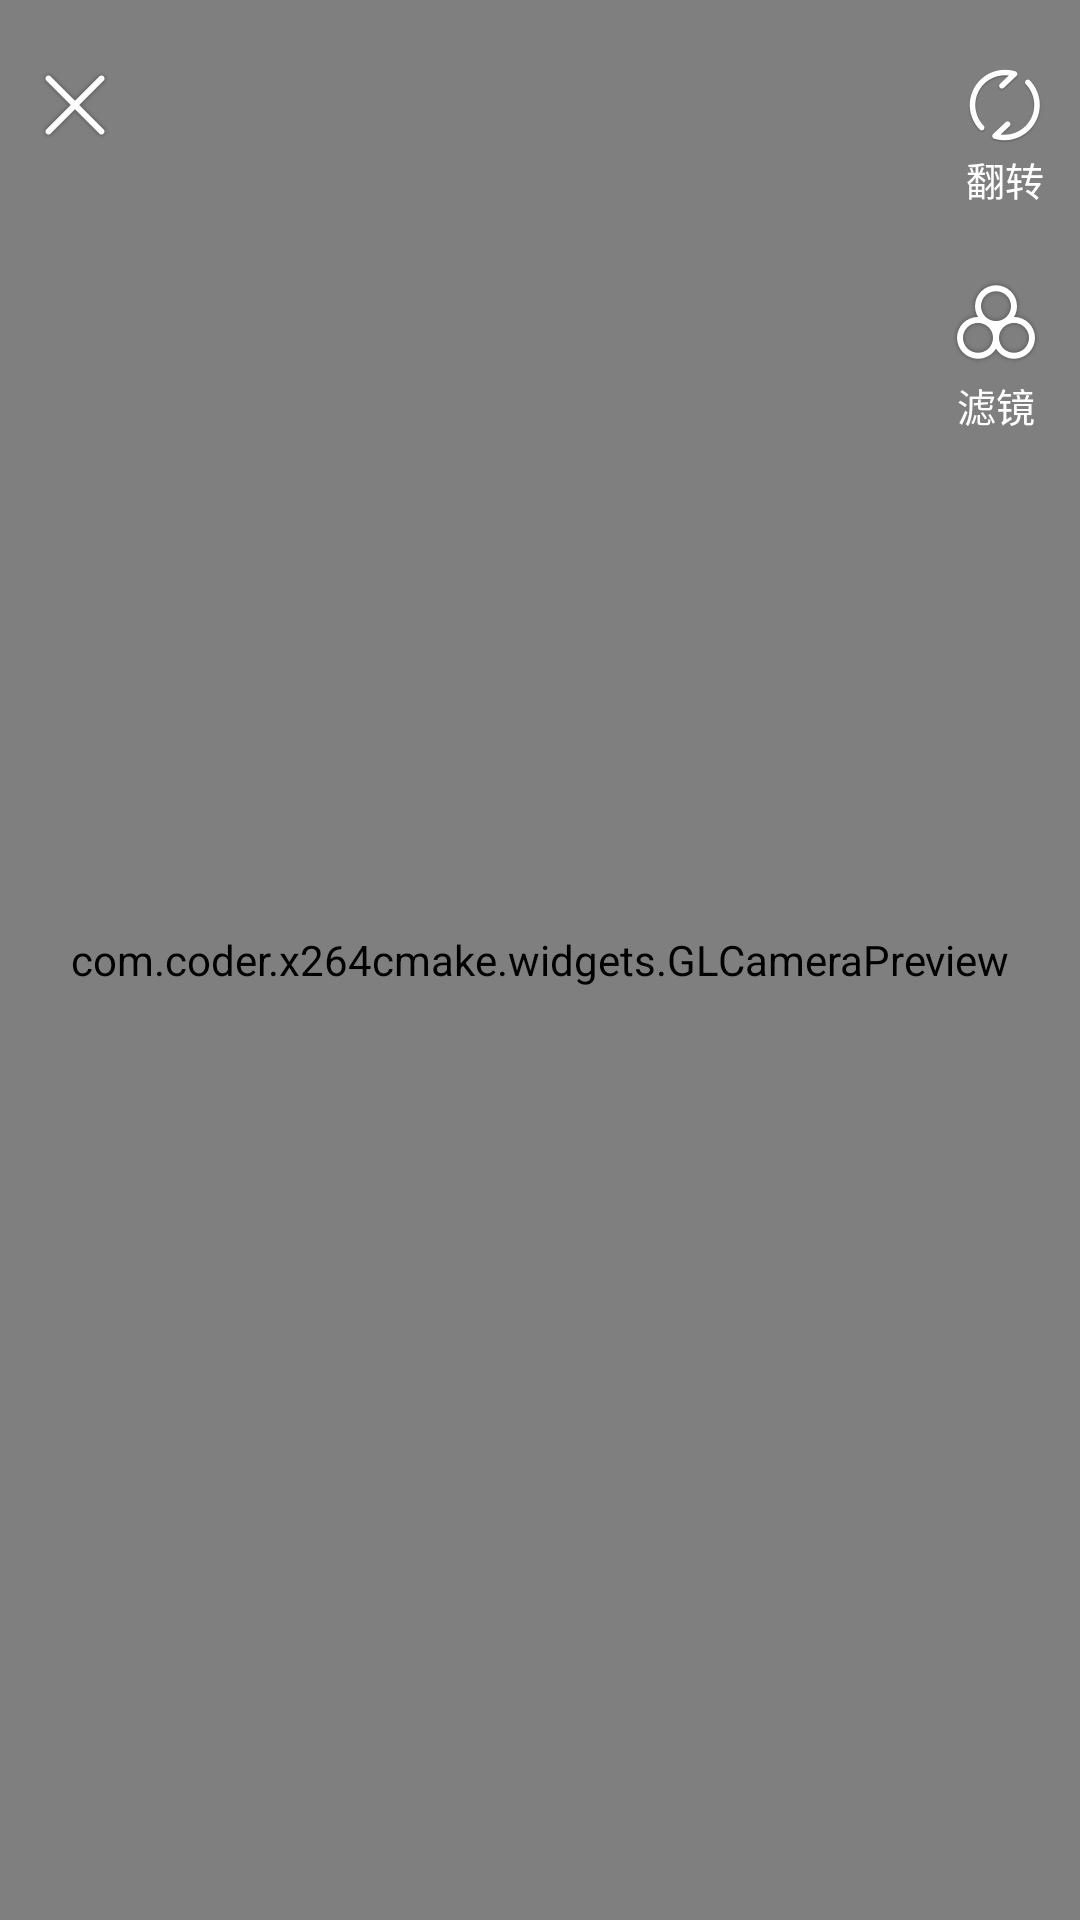

Named icons in this screenshot (1080 × 1920) and their centers, [x,y]:
close camera: [75,105]
